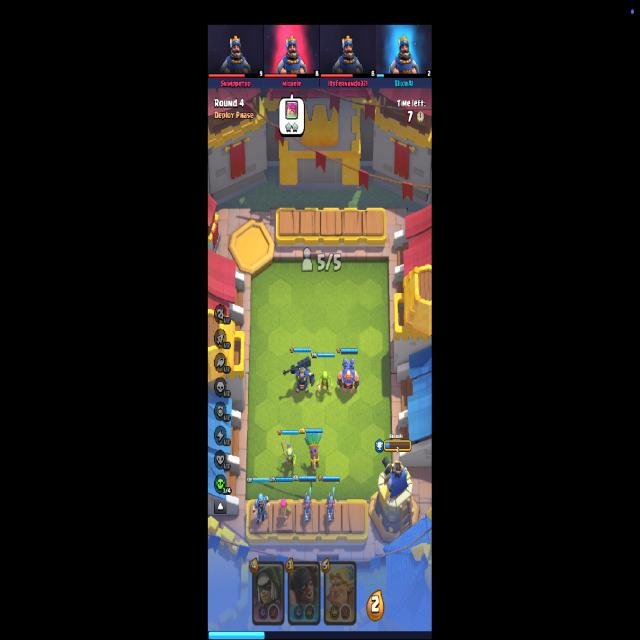archer: (278, 499, 292, 524)
card_bandit: (253, 559, 285, 626)
card_executioner: (288, 561, 320, 626)
card_golden_knight: (323, 560, 358, 625)
dart_goblin: (303, 428, 322, 474)
electro_giant: (337, 358, 360, 396)
goblin: (318, 369, 334, 396)
musketeer: (326, 486, 336, 526), (302, 486, 312, 524)
skeleton_king: (282, 355, 315, 398)
spear_goblin: (279, 441, 297, 468)
wizard: (251, 492, 271, 525)
